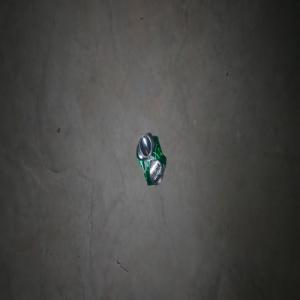SodaCan: (135, 132, 166, 185)
